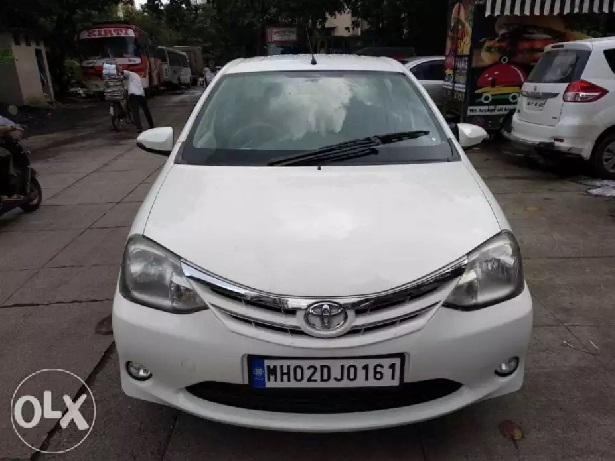licenseplate: (246, 353, 403, 392)
